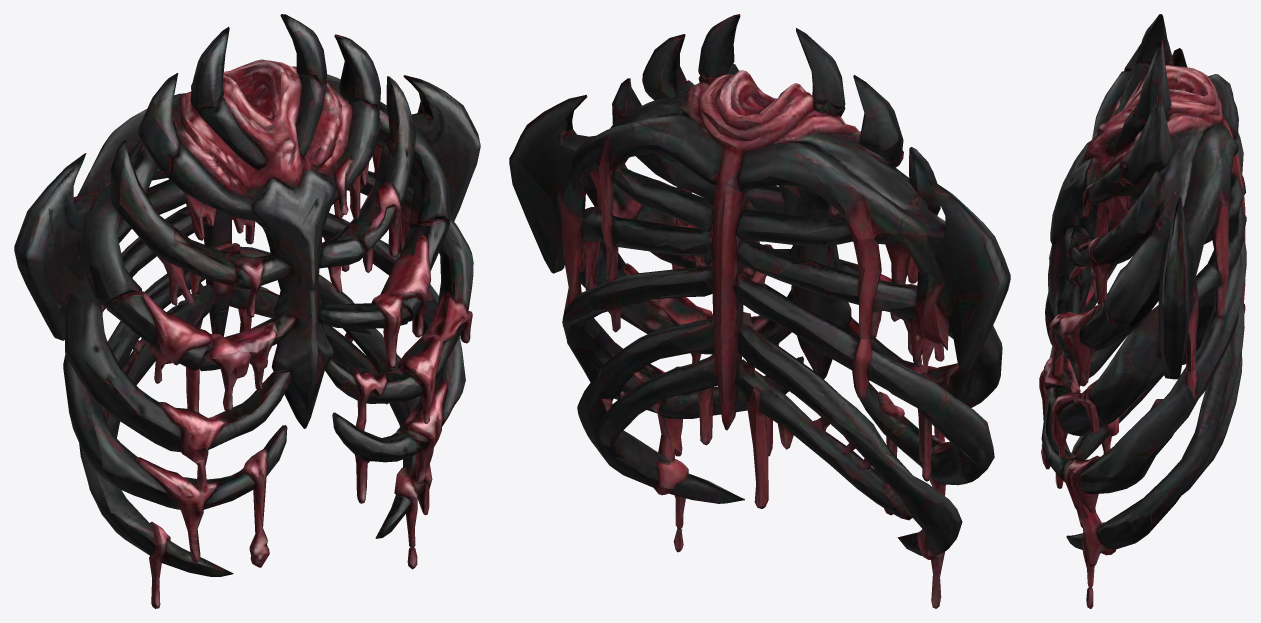
The model's file is ribs.glb.
The picture shows the model from 3 angles, left to right: view 1: azimuth 30°, elevation 25°; view 2: azimuth 150°, elevation 25°; view 3: azimuth 270°, elevation 25°; orthographic projection. The views are drawn at different scales.
Parts seen in each view (by area): view 1: mesh_node; view 2: mesh_node; view 3: mesh_node.
Boxes of the visible parts, bbox=[...] form: mesh_node: bbox=[14, 14, 480, 608]; mesh_node: bbox=[509, 14, 1010, 608]; mesh_node: bbox=[1039, 14, 1246, 608].
Size of the model in its own units: 1.67 by 1.9 by 0.6799.
1 material, 1 textured.
